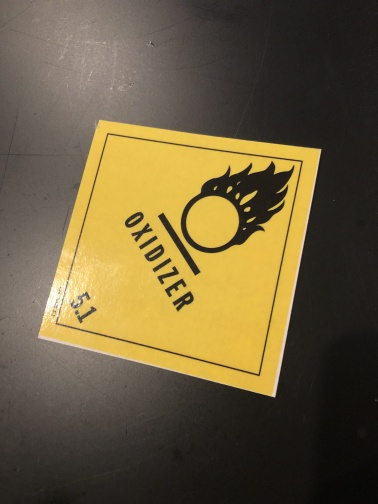Oxidizer: (38, 120, 319, 397)
